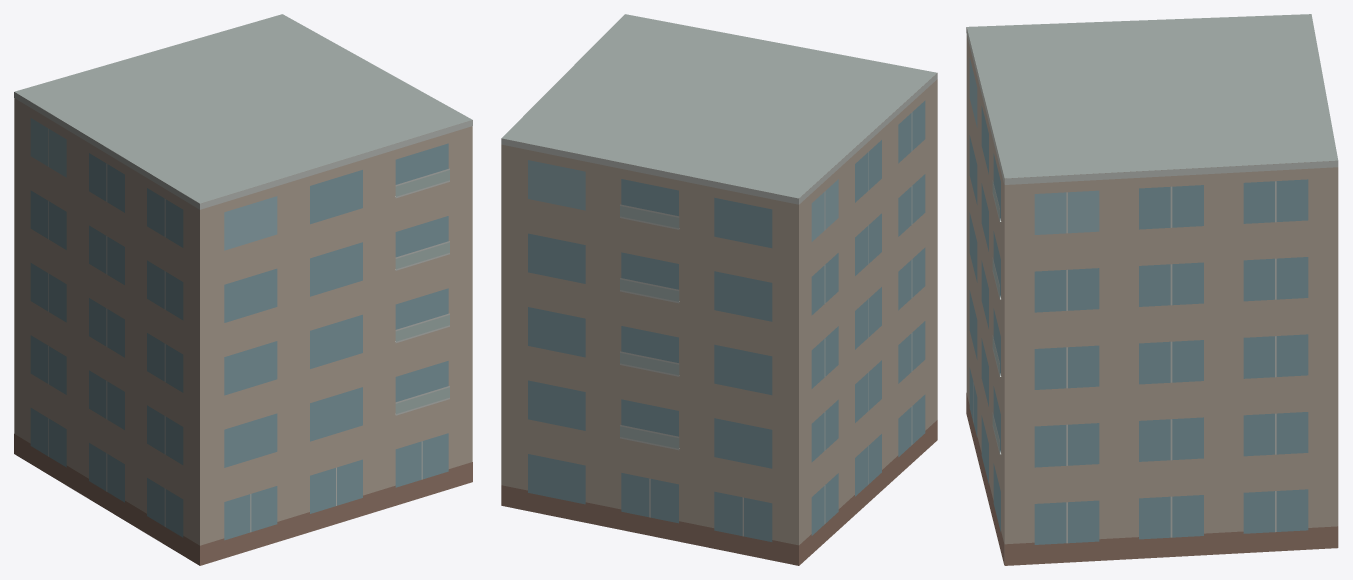
Rendered from survey-upis-32821659.glb.
The picture shows the model from 3 angles, left to right: view 1: azimuth 30°, elevation 25°; view 2: azimuth 150°, elevation 25°; view 3: azimuth 270°, elevation 25°; orthographic projection. The views are drawn at different scales.
Parts seen in each view (by area): view 1: survey-upis-32821659.tmp; view 2: survey-upis-32821659.tmp; view 3: survey-upis-32821659.tmp.
Boxes of the visible parts, <box> form: survey-upis-32821659.tmp: <box>14,14,472,565</box>; survey-upis-32821659.tmp: <box>501,14,937,565</box>; survey-upis-32821659.tmp: <box>966,14,1338,565</box>.
Size of the model in its own units: 13.1 by 14.38 by 12.51.
